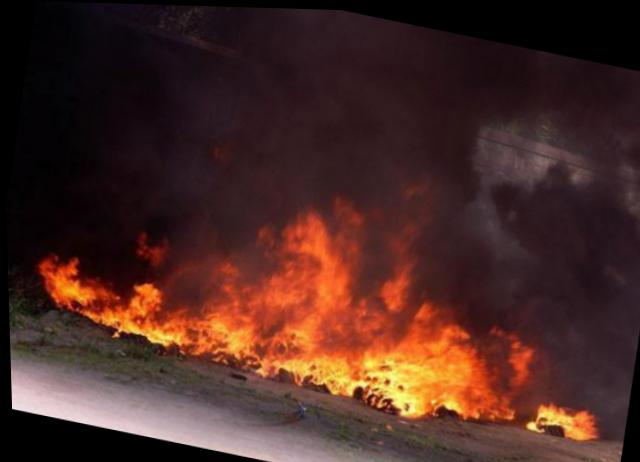fire: (253, 332, 433, 415), (257, 207, 357, 310), (375, 319, 486, 410), (276, 294, 385, 356), (149, 303, 258, 362), (74, 270, 159, 338), (204, 255, 256, 321), (35, 254, 87, 308), (531, 394, 592, 438), (237, 274, 283, 326), (373, 265, 409, 311), (500, 334, 531, 385)
